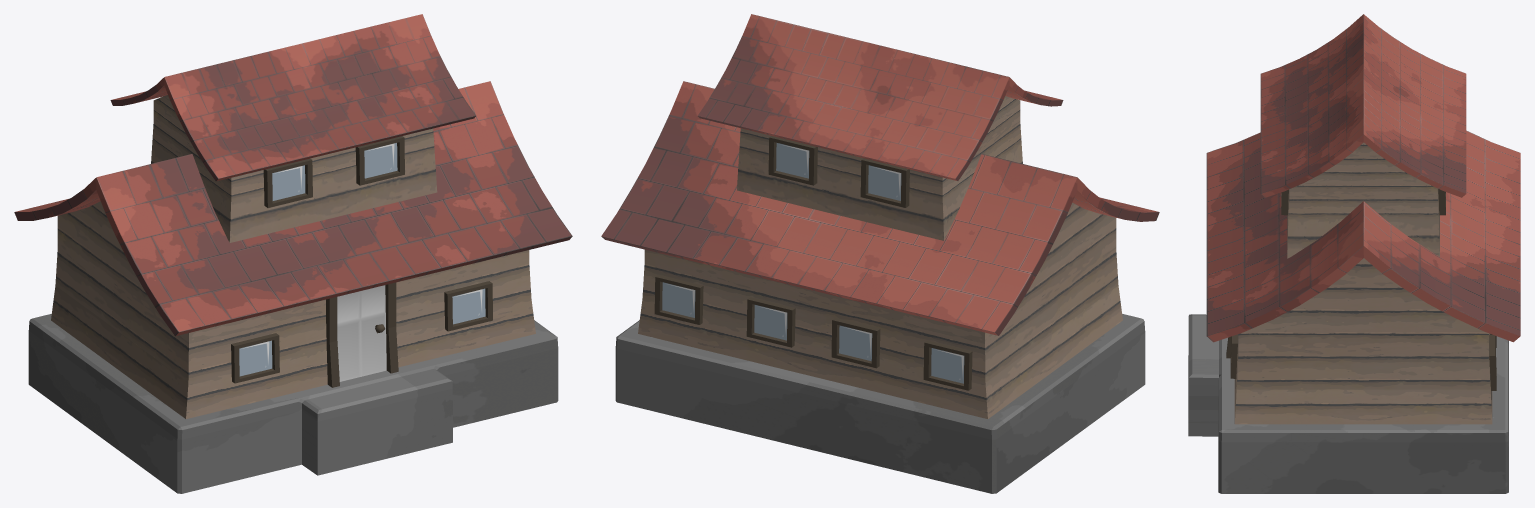
The model's file is barracks.fbx.
3 views of the same model, side by side, from view 1: azimuth 30°, elevation 25°; view 2: azimuth 150°, elevation 25°; view 3: azimuth 270°, elevation 25° (orthographic). The views are drawn at different scales.
Parts seen in each view (by area): view 1: Barracks-1, Barracks-roof-1, Barracks-roof-2, Barracks-2, Barracks-window, Barracks-door; view 2: Barracks-1, Barracks-roof-1, Barracks-roof-2, Barracks-2, Barracks-window; view 3: Barracks-1, Barracks-roof-1, Barracks-roof-2, Barracks-2, Barracks-window.
Boxes of the visible parts, left/top/right/bottom form: Barracks-1: left=28, top=201, right=558, bottom=493; Barracks-roof-1: left=14, top=81, right=572, bottom=336; Barracks-roof-2: left=110, top=14, right=476, bottom=181; Barracks-2: left=151, top=95, right=437, bottom=242; Barracks-window: left=231, top=136, right=492, bottom=383; Barracks-door: left=326, top=282, right=398, bottom=387; Barracks-1: left=615, top=203, right=1145, bottom=493; Barracks-roof-1: left=601, top=81, right=1159, bottom=335; Barracks-roof-2: left=697, top=14, right=1063, bottom=180; Barracks-2: left=737, top=96, right=1022, bottom=240; Barracks-window: left=654, top=136, right=972, bottom=390; Barracks-1: left=1188, top=258, right=1508, bottom=493; Barracks-roof-1: left=1206, top=130, right=1520, bottom=342; Barracks-roof-2: left=1260, top=14, right=1466, bottom=197; Barracks-2: left=1287, top=142, right=1439, bottom=258; Barracks-window: left=1230, top=189, right=1496, bottom=390.
Bounding box in the file's own units: 707 × 595 × 541.
